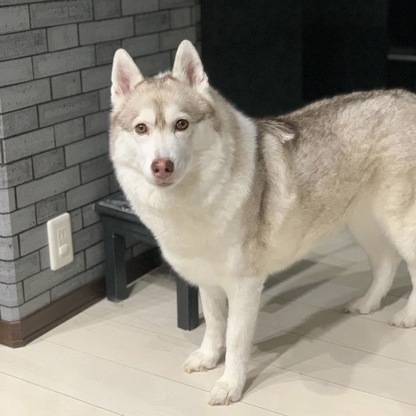husky: (100, 35, 416, 409)
